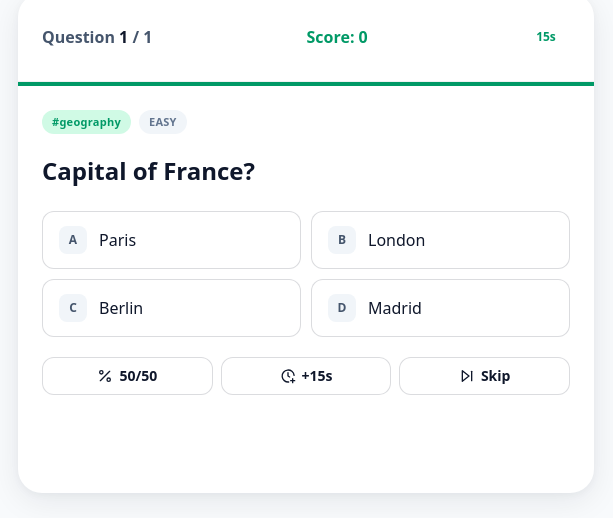
Test: QuizLoopComponent — lifelines (FEAT-002) › spends a lifeline once — the button is disabled afterwards
The width and height of the screenshot is (613, 518).
Click the button with test id "lifeline-fiftyFifty". click: coordinates (127, 376)
box: x1=42 y1=357 x2=213 y2=395
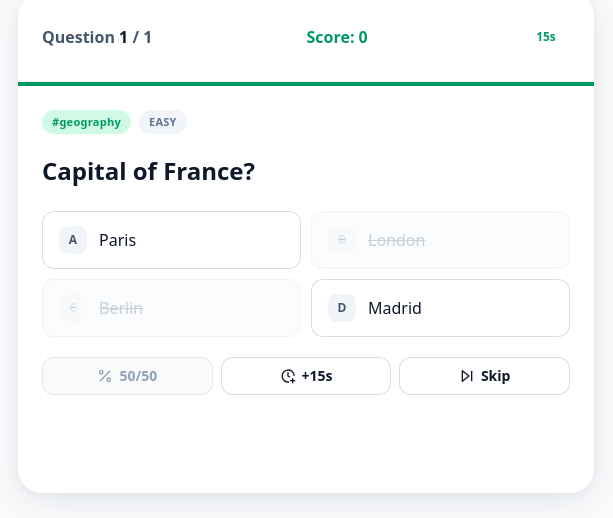
Expected: the button with test id "lifeline-fiftyFifty" is disabled, x1=42 y1=357 x2=213 y2=395
